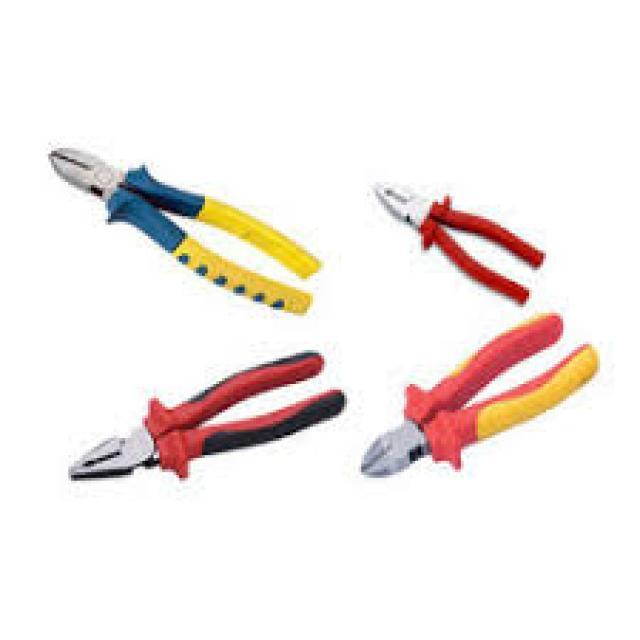pliers: (38, 140, 328, 320), (353, 306, 604, 483), (64, 344, 350, 489), (370, 178, 550, 304)
